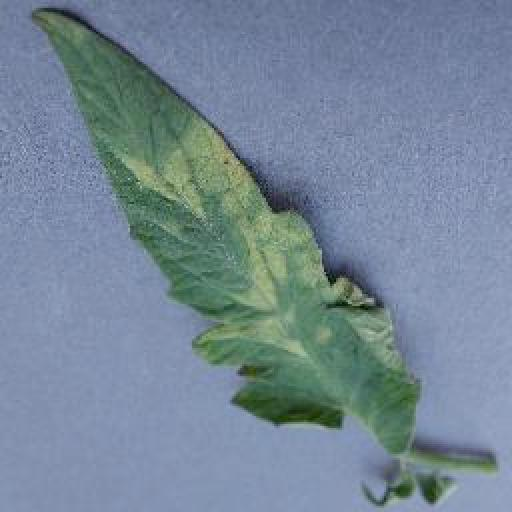disease_tomato: (28, 6, 422, 460)
